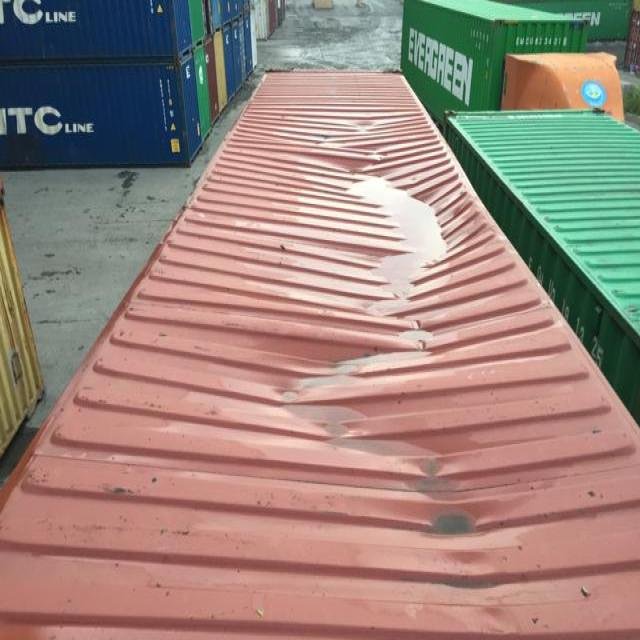dent: (282, 106, 493, 572)
